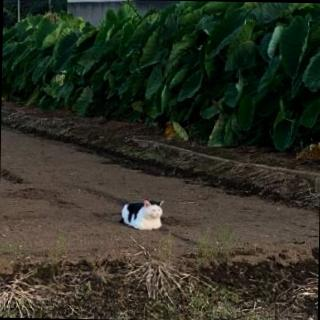cat: (120, 197, 164, 231)
